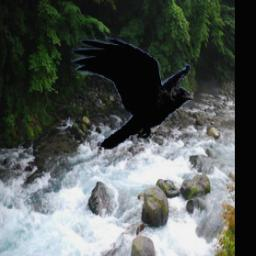Crow: (71, 35, 194, 149)
